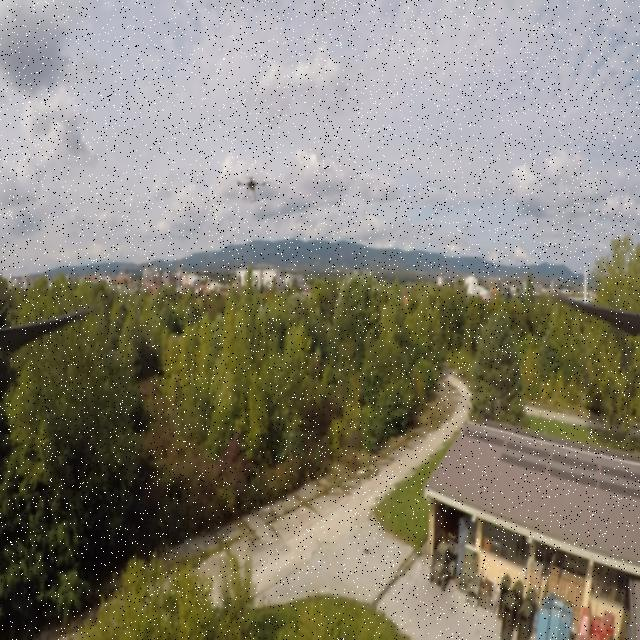UAV: (232, 173, 274, 207)
